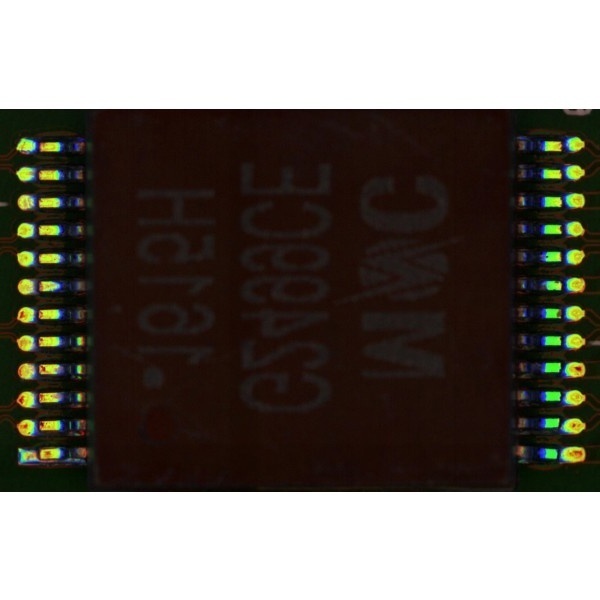Bad_podu: (30, 451, 46, 460)
Bad_qiaojiao: (40, 459, 78, 463)
